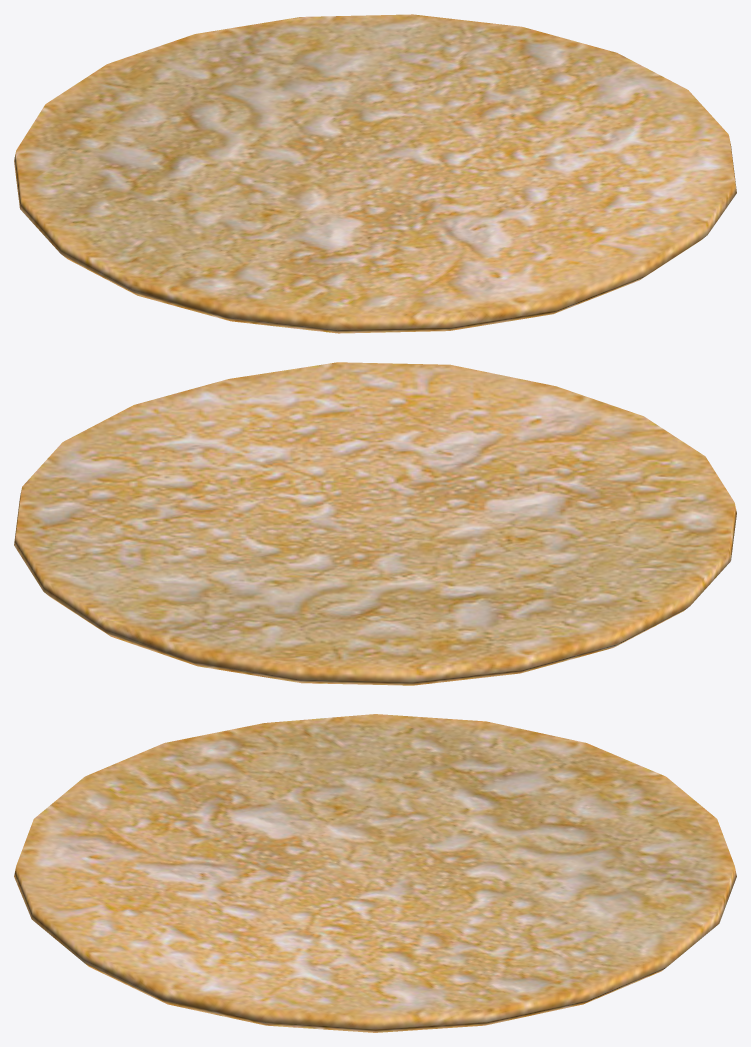
The model's file is wwxuebing.fbx.
3 renders of one model, top to bottom at view 1: azimuth 30°, elevation 25°; view 2: azimuth 150°, elevation 25°; view 3: azimuth 270°, elevation 25°, orthographic.
Parts seen in each view (by area): view 1: wwxuebing; view 2: wwxuebing; view 3: wwxuebing.
Boxes of the visible parts, x1,y1,x2,y2 form: wwxuebing: (14,14,736,333); wwxuebing: (14,362,736,685); wwxuebing: (14,714,736,1032).
Bounding box in the file's own units: 8.8 × 0.295 × 8.8.
Materials: 1 (1 with a texture image).
